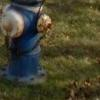Hydrant: (1, 1, 57, 86)
